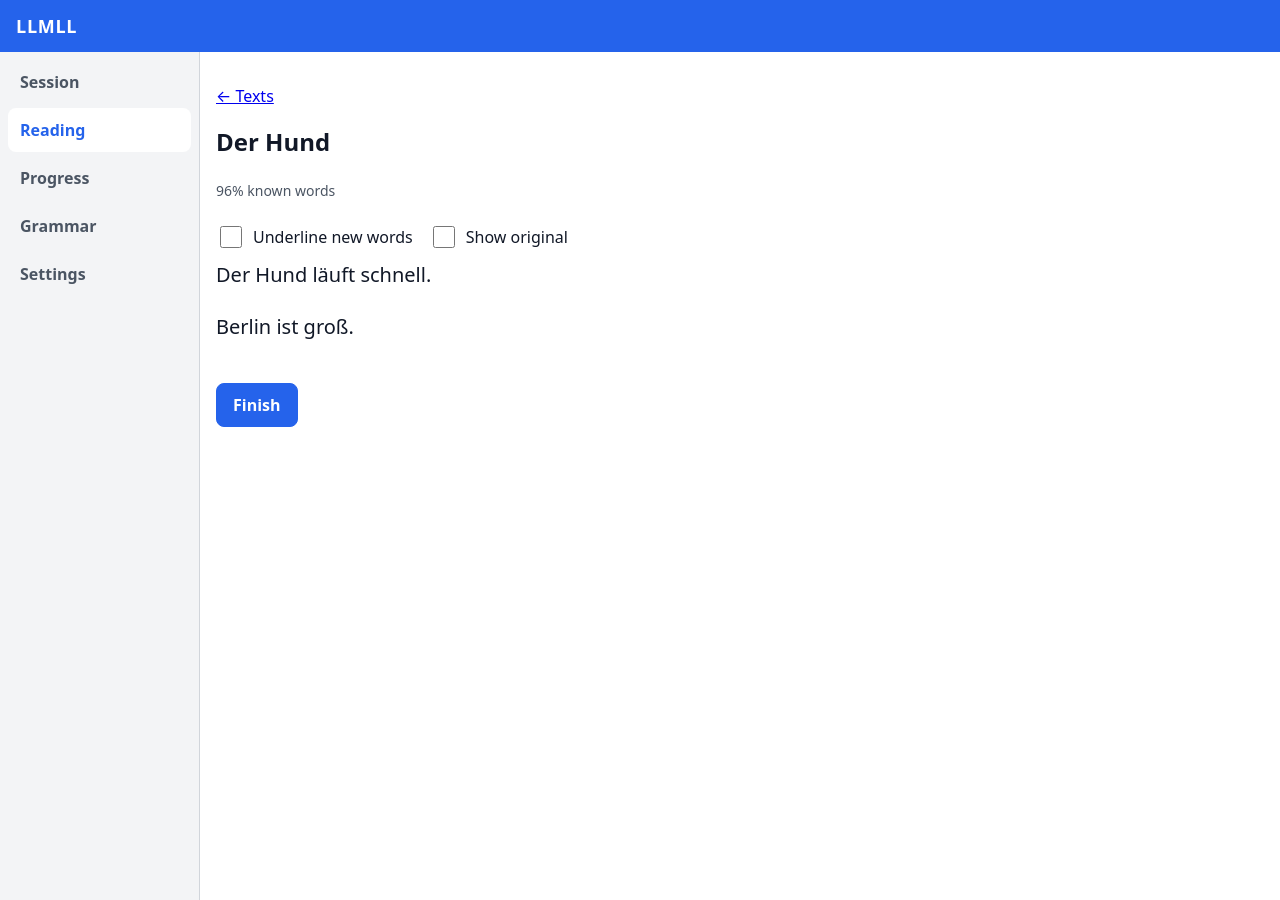
Test: Reader › shows a gloss sheet and opts a word in, then disables the button
The width and height of the screenshot is (1280, 900).
Click the button "Hund" at (281, 275), box [255,259,307,291]
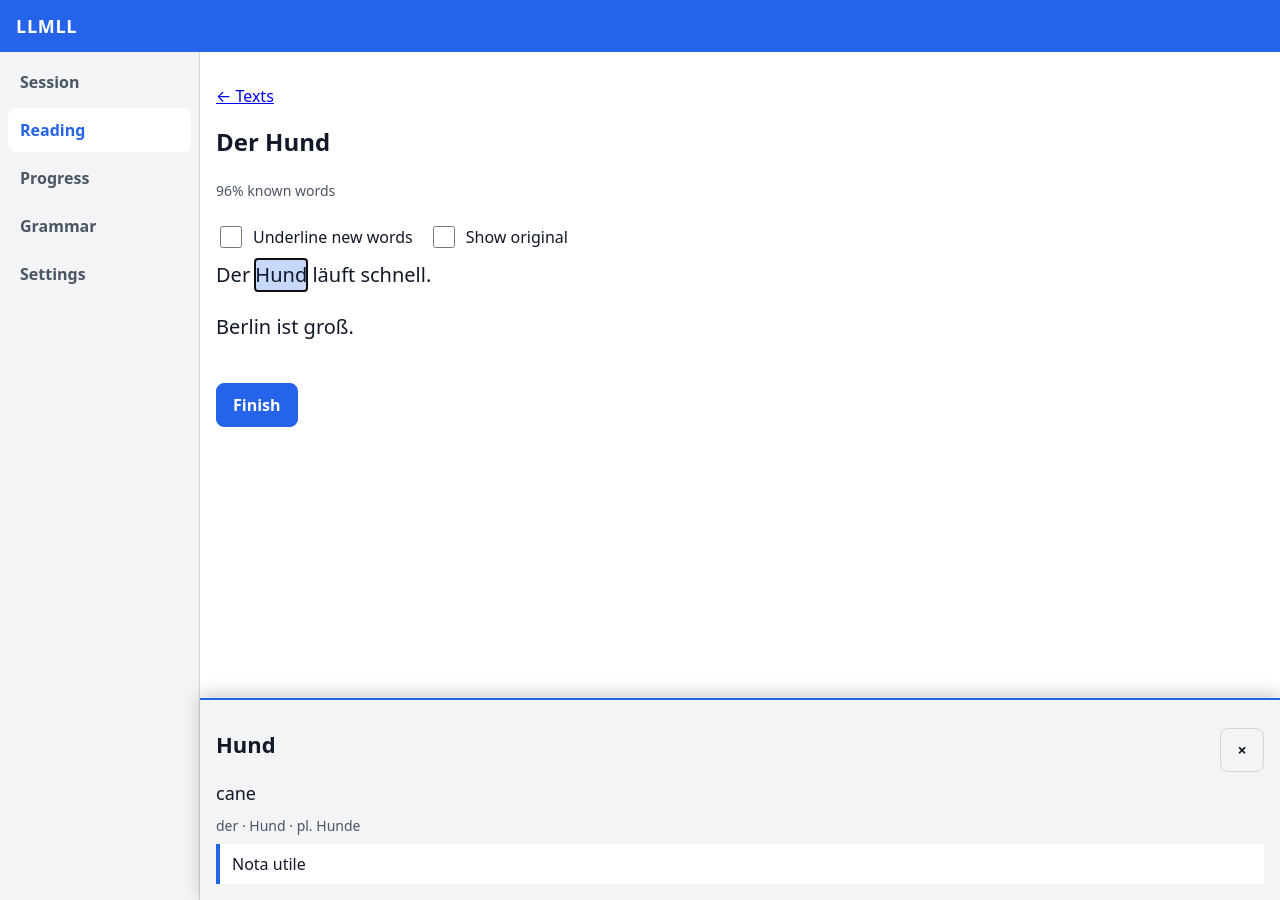
Check: the text "cane" is shown, box [216,781,256,805]
Check: the text "der · Hund · pl. Hunde" is shown, box [216,816,360,835]
Check: the text "Nota utile" is shown, box [216,844,1264,884]
Click the button "schnell" at (393, 275), box [360,259,426,291]
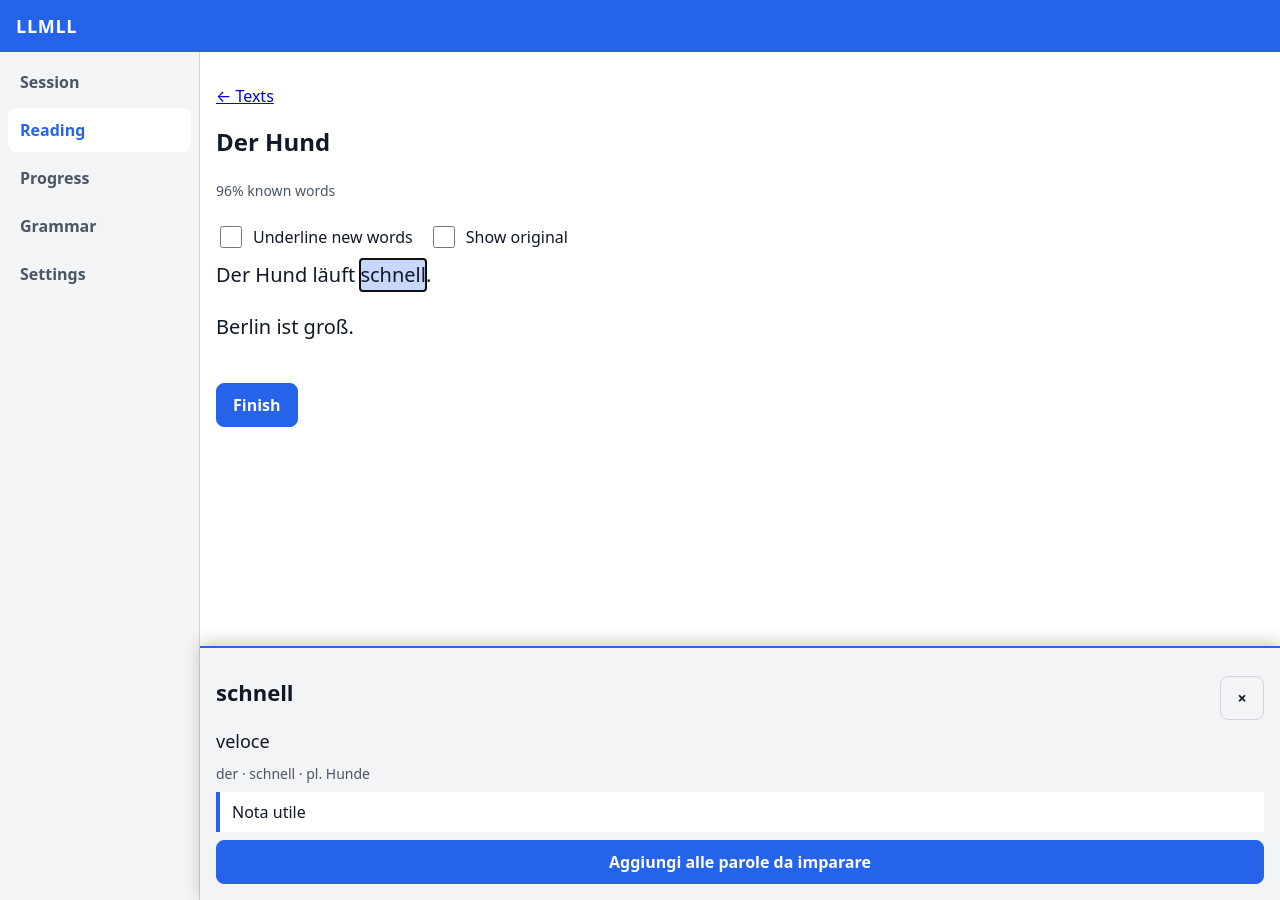
Click the button "Aggiungi alle parole da imparare" at (740, 862), box [216,840,1264,884]
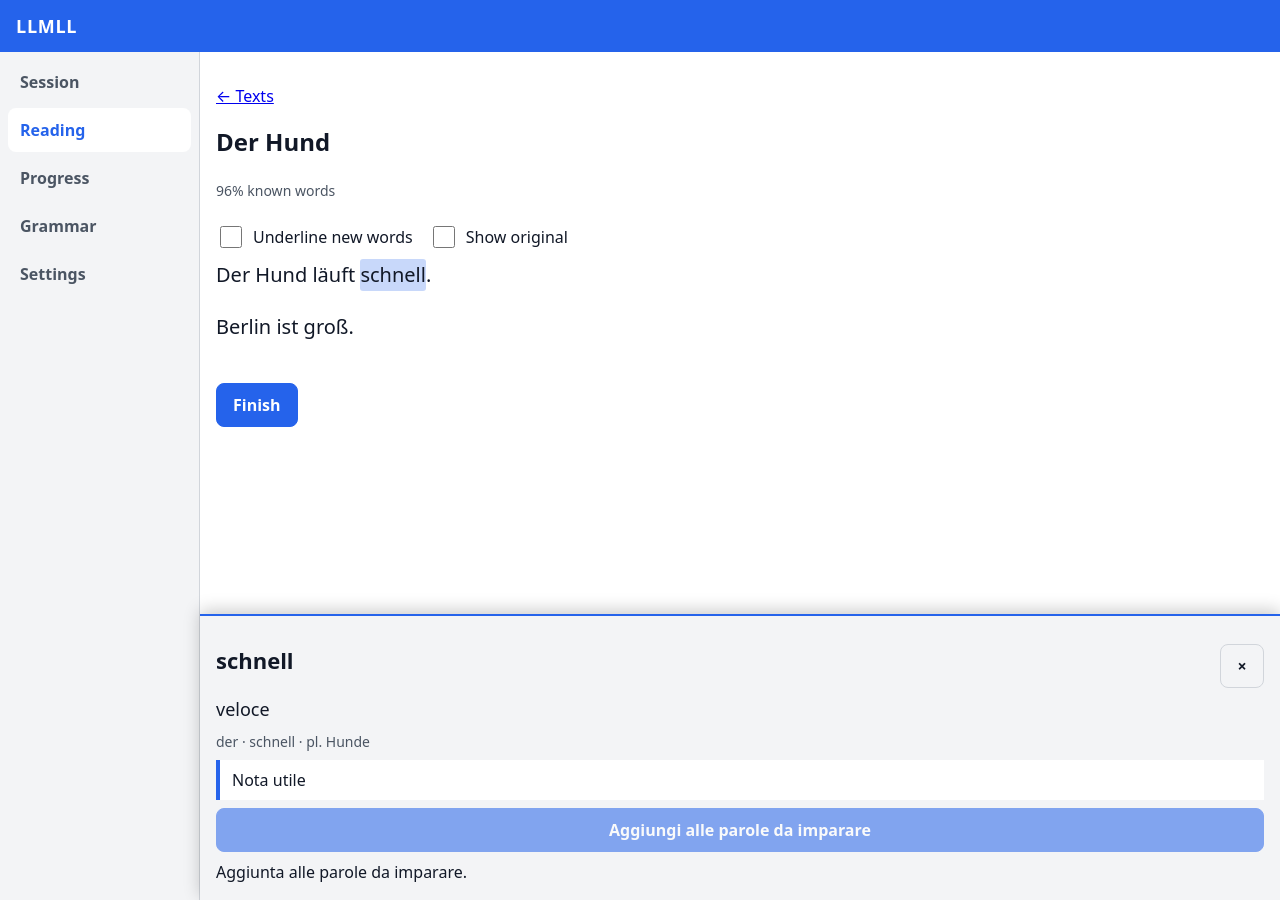
Check: the text "Aggiunta alle parole da imparare." is shown, box [216,861,467,883]
Check: the button "Aggiungi alle parole da imparare" is disabled, box [216,808,1264,852]
